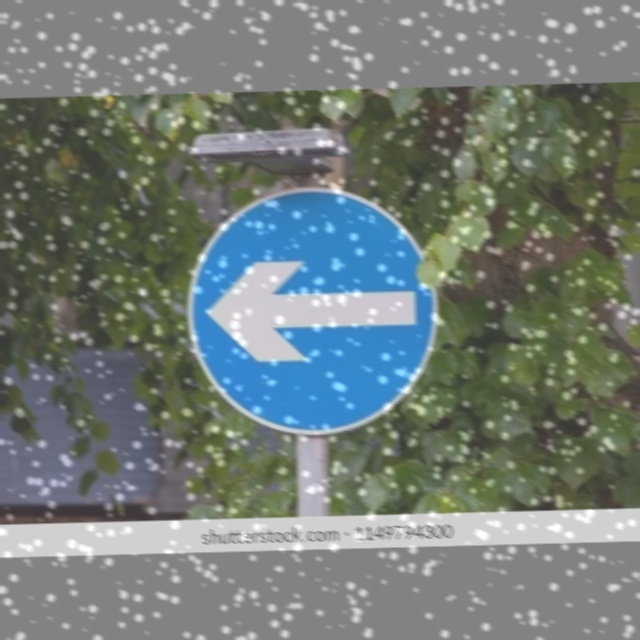Compulsory_Turn_Left: (188, 179, 438, 439)
